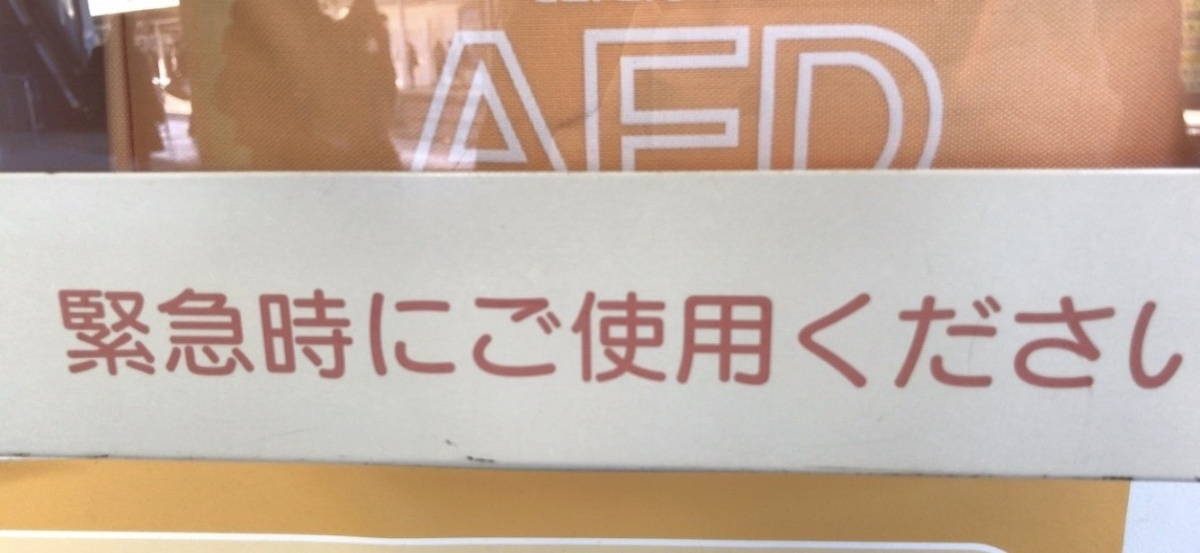text: (449, 23, 464, 175), (465, 23, 480, 175), (481, 23, 496, 175), (497, 23, 512, 175), (513, 23, 528, 175), (529, 23, 544, 175), (545, 23, 560, 175), (561, 23, 576, 175), (577, 23, 592, 175), (593, 23, 608, 175), (609, 23, 624, 175), (625, 23, 640, 175), (641, 23, 656, 175), (657, 23, 672, 175), (673, 23, 688, 175), (689, 23, 704, 175), (705, 23, 720, 175), (721, 23, 736, 175), (737, 23, 752, 175), (753, 23, 768, 175), (769, 23, 784, 175), (785, 23, 800, 175), (801, 23, 816, 175), (817, 23, 832, 175), (833, 23, 848, 175), (849, 23, 864, 175), (865, 23, 880, 175), (881, 23, 896, 175), (897, 23, 912, 175), (913, 23, 928, 175), (929, 23, 944, 175), (65, 288, 80, 393), (81, 288, 96, 393), (97, 288, 112, 393), (113, 288, 128, 393), (129, 288, 144, 393), (145, 288, 160, 393), (161, 288, 176, 393), (177, 288, 192, 393), (193, 288, 208, 393), (209, 288, 224, 393), (225, 288, 240, 393), (241, 288, 256, 393), (257, 288, 272, 393), (273, 288, 288, 393), (289, 288, 304, 393), (305, 288, 320, 393), (321, 288, 336, 393), (337, 288, 352, 393), (353, 288, 368, 393), (369, 288, 384, 393), (385, 288, 400, 393), (401, 288, 416, 393), (417, 288, 432, 393), (433, 288, 448, 393), (449, 288, 464, 393), (465, 288, 480, 393), (481, 288, 496, 393), (497, 288, 512, 393), (513, 288, 528, 393), (529, 288, 544, 393), (545, 288, 560, 393), (561, 288, 576, 393), (577, 288, 592, 393), (593, 288, 608, 393), (609, 288, 624, 393), (625, 288, 640, 393), (641, 288, 656, 393), (657, 288, 672, 393), (673, 288, 688, 393), (689, 288, 704, 393), (705, 288, 720, 393), (721, 288, 736, 393), (737, 288, 752, 393), (753, 288, 768, 393), (769, 288, 784, 393), (785, 288, 800, 393), (801, 288, 816, 393), (817, 288, 832, 393), (833, 288, 848, 393), (849, 288, 864, 393), (865, 288, 880, 393), (881, 288, 896, 393), (897, 288, 912, 393), (913, 288, 928, 393), (929, 288, 944, 393), (945, 288, 960, 393), (961, 288, 976, 393), (977, 288, 992, 393), (993, 288, 1008, 393), (1009, 288, 1024, 393), (1025, 288, 1040, 393), (1041, 288, 1056, 393), (1057, 288, 1072, 393), (1073, 288, 1088, 393), (1089, 288, 1104, 393), (1105, 288, 1120, 393), (1121, 288, 1136, 393), (1137, 288, 1152, 393), (1153, 288, 1168, 393), (1169, 288, 1184, 393), (441, 23, 448, 175), (945, 23, 952, 175), (55, 288, 64, 393), (1185, 288, 1187, 393)
